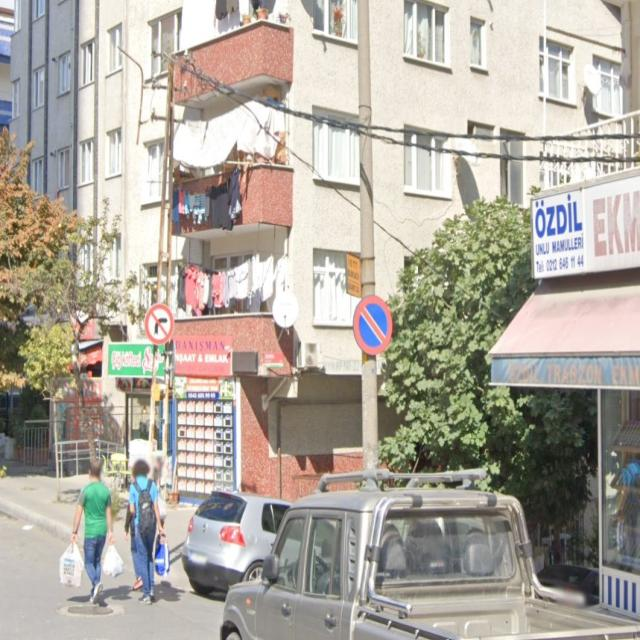parkyasak: (354, 296, 393, 356)
sagadonulmez: (144, 303, 175, 343)
